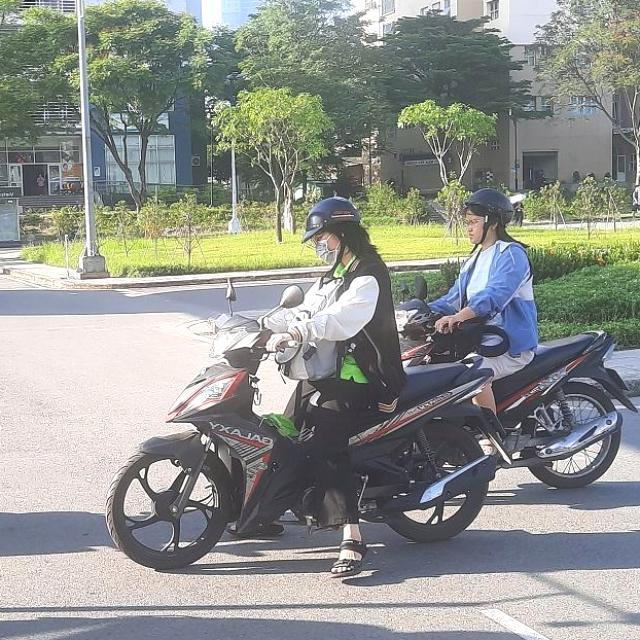Helmet: (302, 192, 367, 266), (457, 186, 520, 246)
